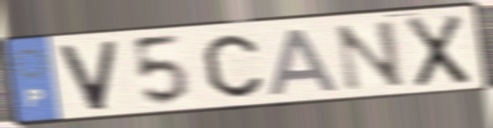5: (129, 31, 194, 110)
A: (267, 25, 344, 98)
C: (200, 32, 266, 100)
N: (333, 18, 408, 93)
V: (56, 38, 121, 114)
X: (403, 12, 472, 90)
